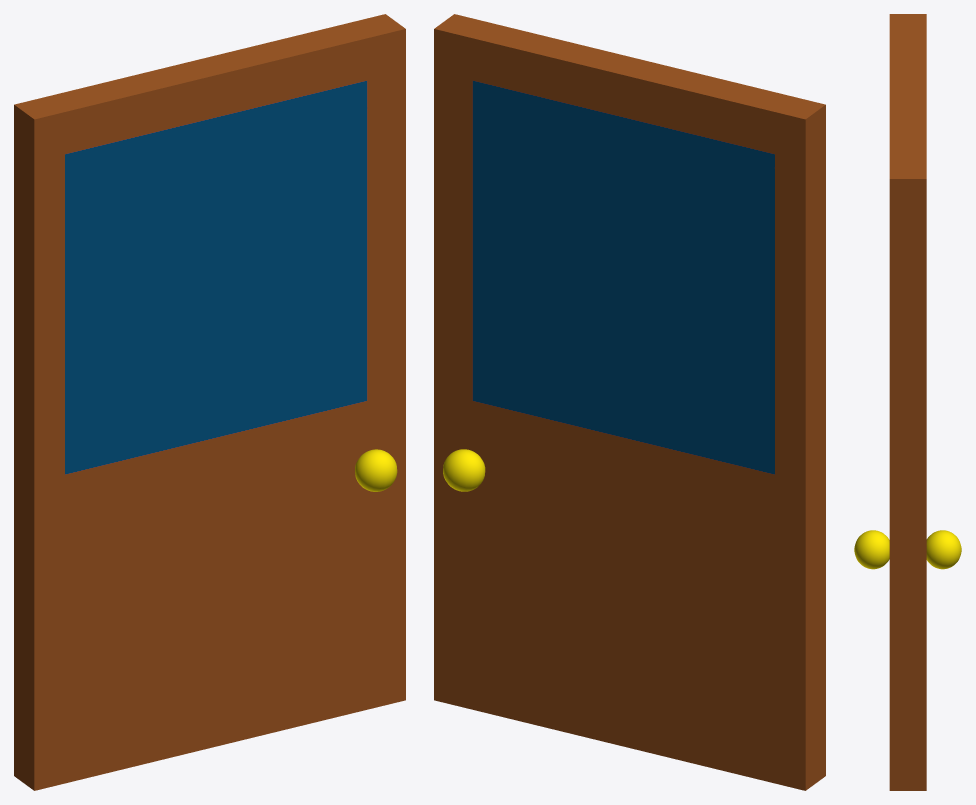
The model's file is PuertaCocina.obj.
The picture shows the model from 3 angles, left to right: view 1: azimuth 30°, elevation 25°; view 2: azimuth 150°, elevation 25°; view 3: azimuth 270°, elevation 25°; orthographic projection. The views are drawn at different scales.
Visible parts, largest first — view 1: puertaCocina:polySurface6; view 2: puertaCocina:polySurface6; view 3: puertaCocina:polySurface6.
Part boxes in pixels (<box>): puertaCocina:polySurface6: <box>14,14,405,790</box>; puertaCocina:polySurface6: <box>434,14,825,790</box>; puertaCocina:polySurface6: <box>854,14,961,790</box>.
Bounding box in the file's own units: 1.04 × 1.8 × 0.2869.
2 materials, 2 textured.
